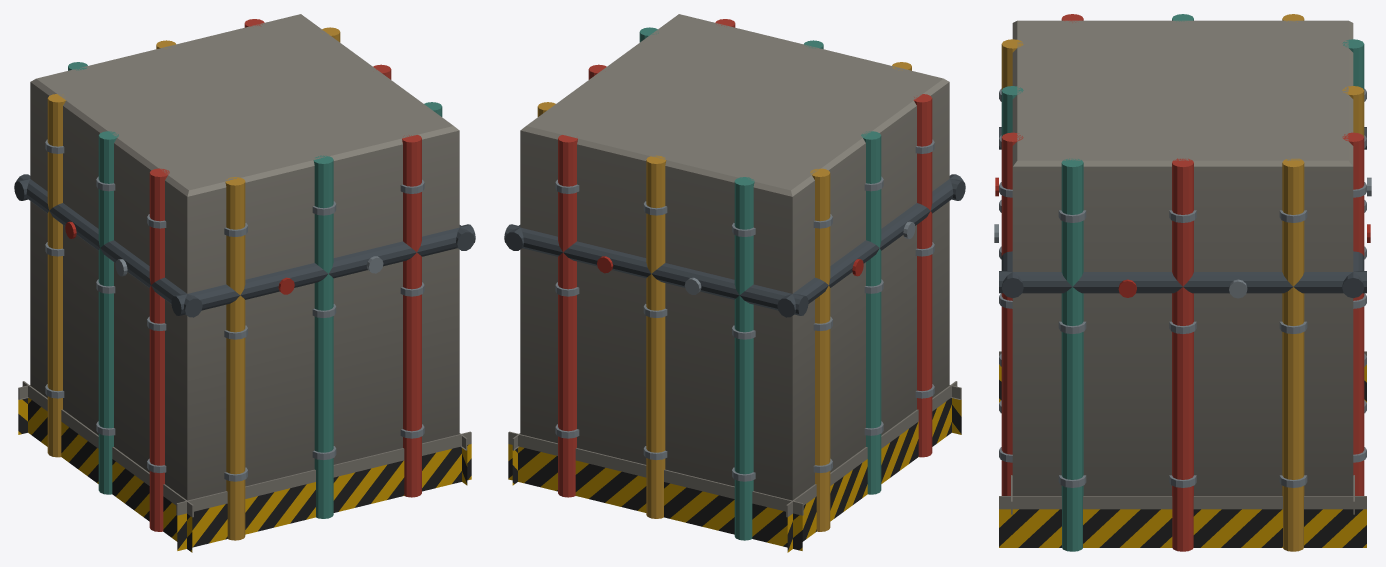
The model's file is wall_c.fbx.
3 views of the same model, side by side, from view 1: azimuth 30°, elevation 25°; view 2: azimuth 150°, elevation 25°; view 3: azimuth 270°, elevation 25° (orthographic). The views are drawn at different scales.
Parts seen in each view (by area): view 1: wall_c; view 2: wall_c; view 3: wall_c.
Part boxes in pixels (<box>): wall_c: <box>14,14,475,552</box>; wall_c: <box>504,14,965,552</box>; wall_c: <box>994,14,1371,551</box>.
Bounding box in the file's own units: 4 × 4.5 × 4.
